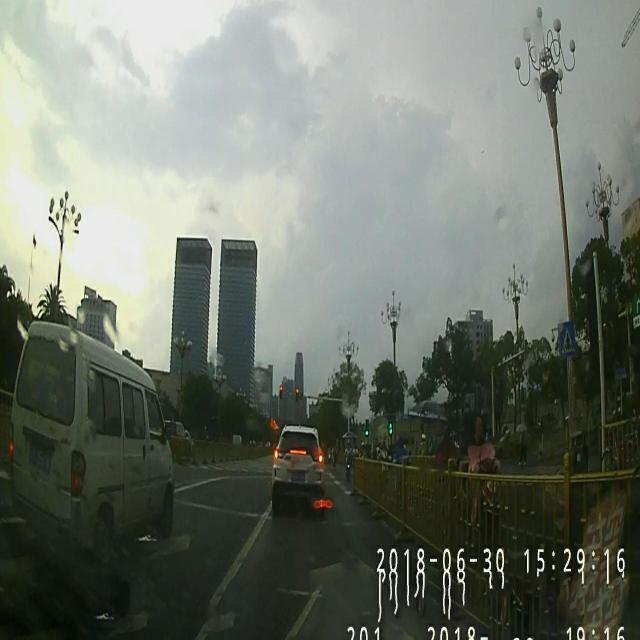car: (8, 322, 174, 568), (270, 424, 323, 518)
